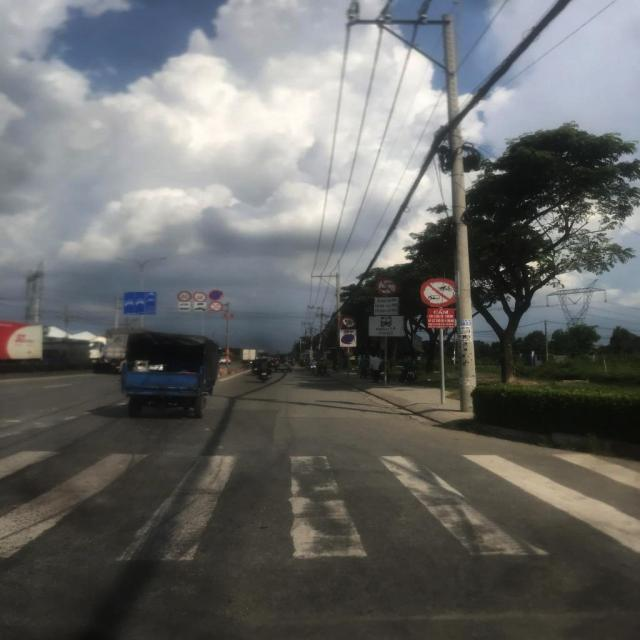107-cam-oto-khach-va-oto-tai: (376, 278, 400, 296)
127-toc-do-toi-da-50: (340, 314, 357, 329)
127-toc-do-toi-da-60: (193, 290, 208, 302)
127-toc-do-toi-da-80: (176, 290, 193, 302)
